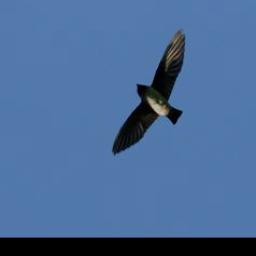Swallow: (115, 28, 188, 158)
